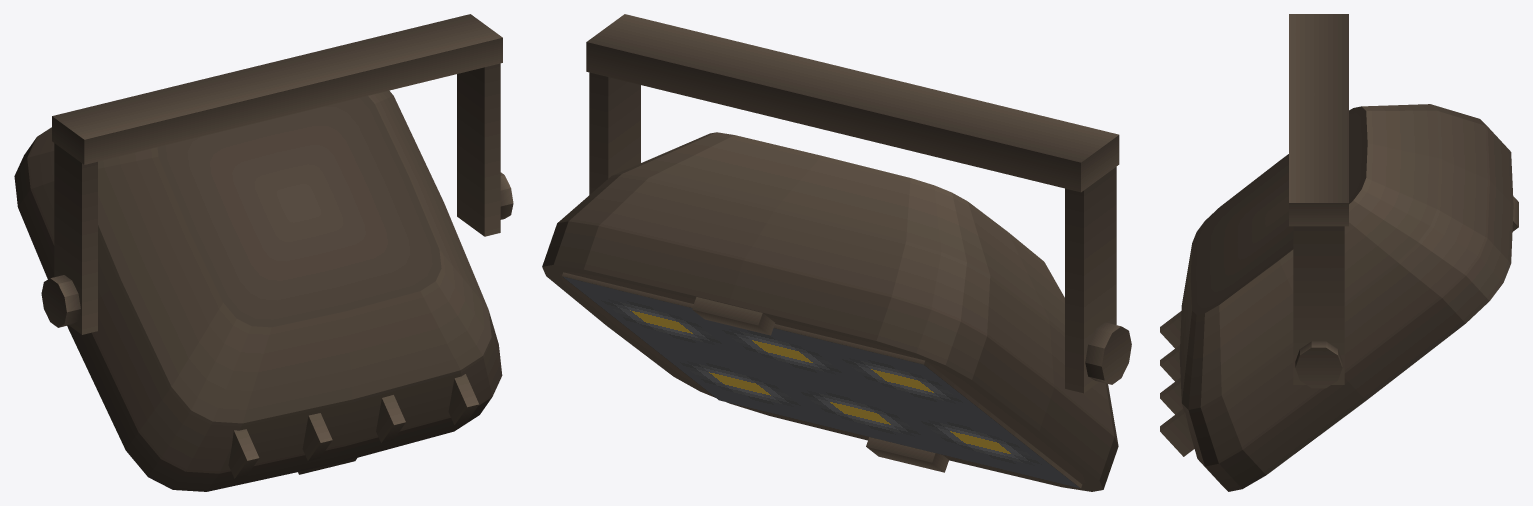
Rendered from floodlight_lithtflyk_c.obj.
The picture shows the model from 3 angles, left to right: view 1: azimuth 30°, elevation 25°; view 2: azimuth 150°, elevation 25°; view 3: azimuth 270°, elevation 25°; orthographic projection. The views are drawn at different scales.
Visible parts, largest first — view 1: fixture; view 2: fixture; view 3: fixture.
Part boxes in pixels (x1,y1,x2,y2): fixture: (14,14,513,491); fixture: (542,14,1131,491); fixture: (1160,14,1518,491).
Size of the model in its own units: 0.6964 by 0.5287 by 0.5239.
